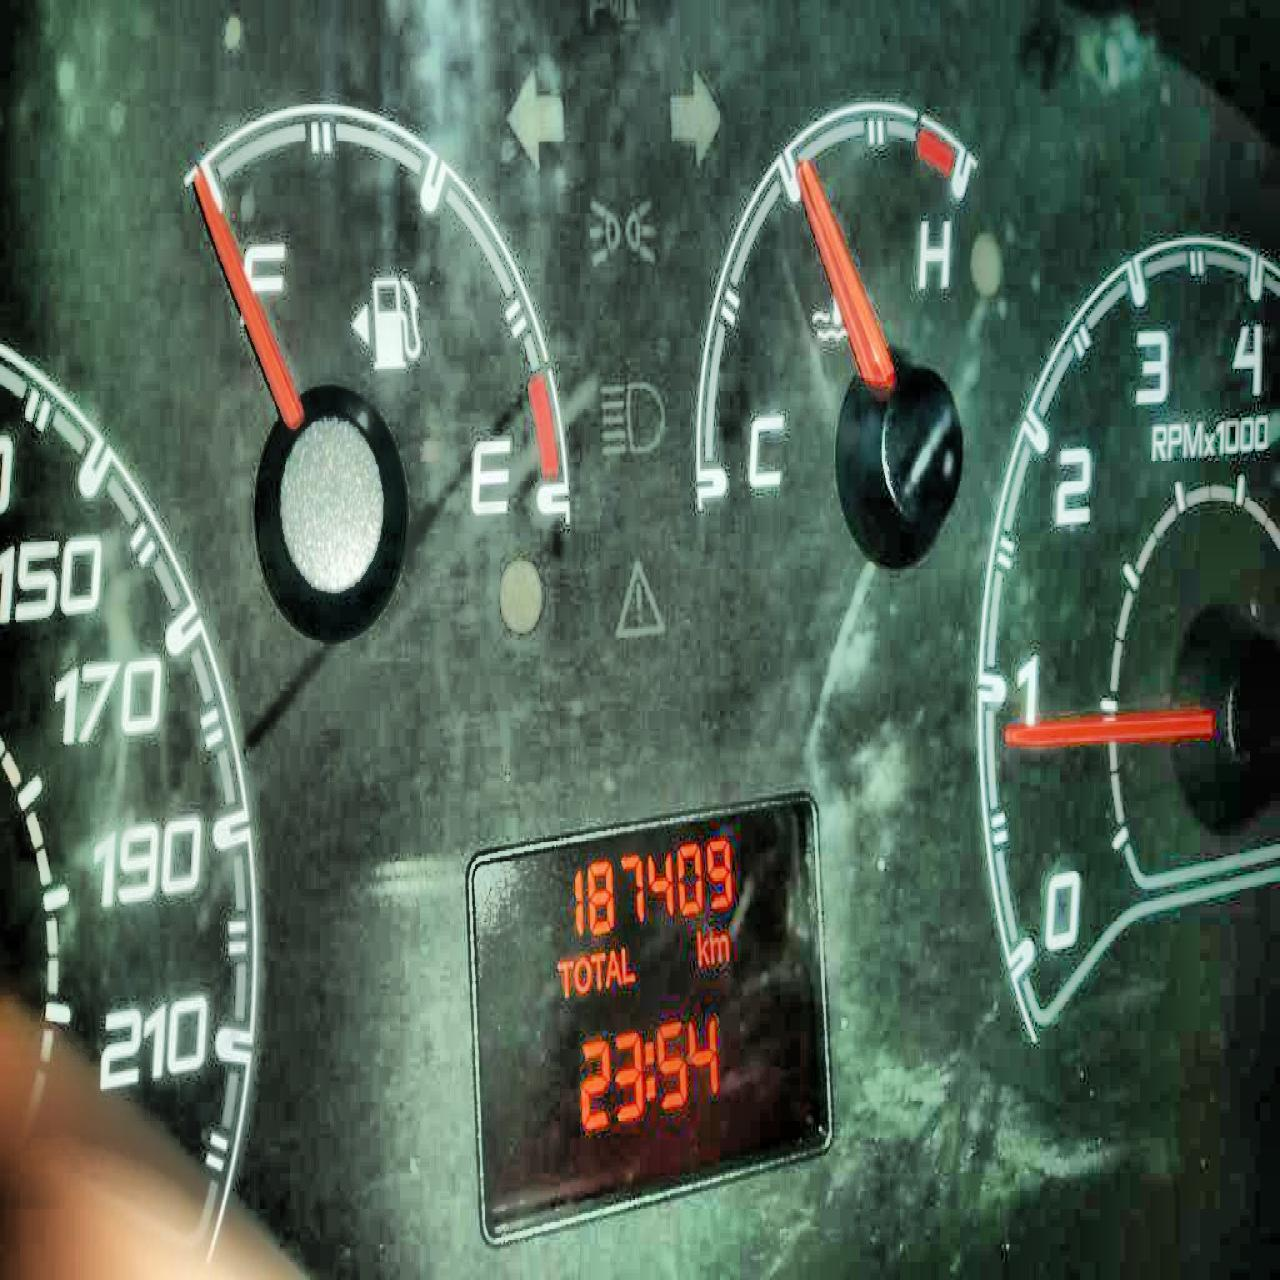0: (675, 839, 704, 913)
1: (570, 863, 585, 938)
2: (580, 1035, 610, 1129)
3: (613, 1027, 642, 1122)
4: (686, 1015, 720, 1096), (645, 849, 675, 915)
5: (655, 1016, 686, 1111)
7: (618, 849, 644, 922)
8: (586, 856, 615, 933)
9: (706, 833, 733, 908)
X: (571, 953, 591, 994), (644, 1036, 655, 1101), (556, 955, 573, 998), (695, 925, 710, 967), (605, 945, 620, 987), (710, 931, 730, 962), (590, 949, 605, 989), (620, 946, 635, 985)
odometer: (462, 782, 837, 1247)
